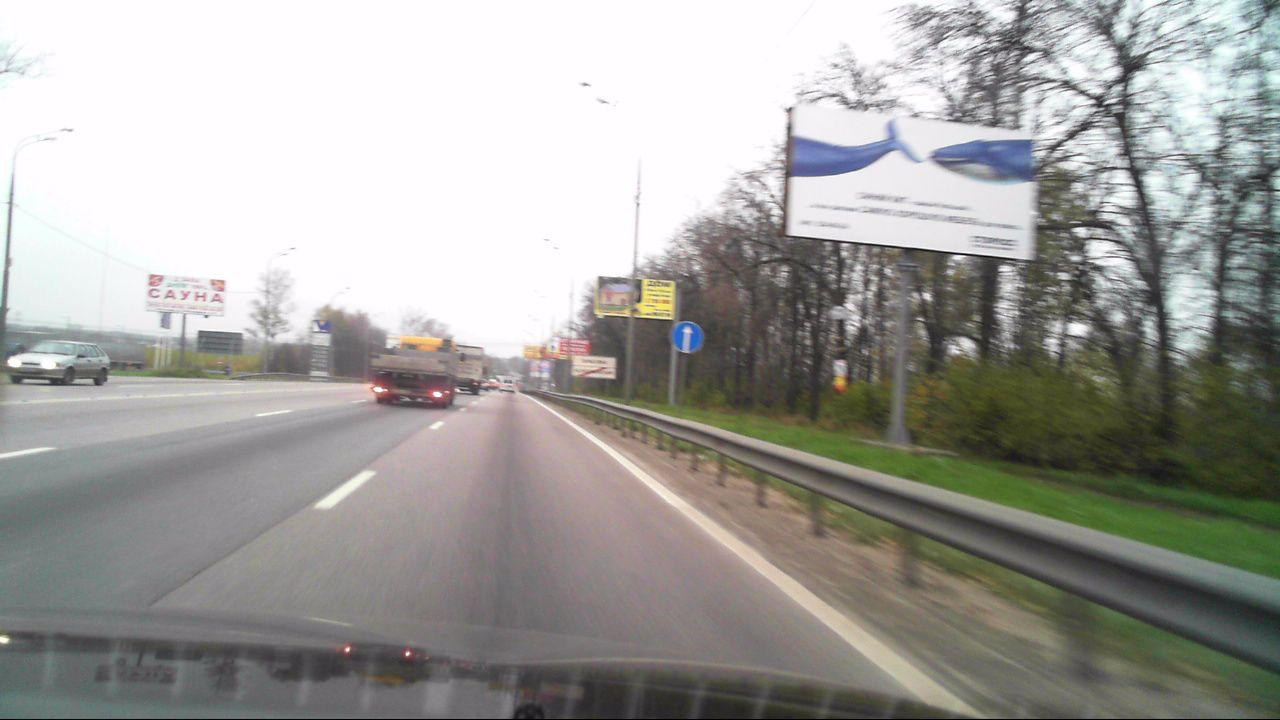road_sign: (674, 321, 704, 353)
